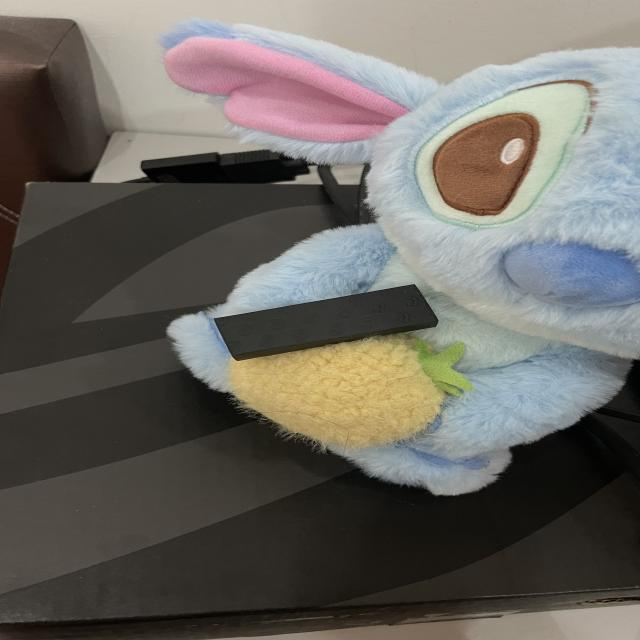eraser: (212, 284, 437, 361)
